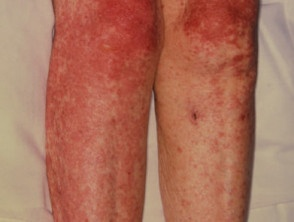SJS-TEN: (37, 0, 265, 222)
